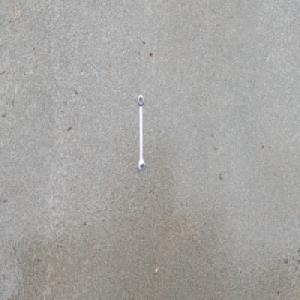Wrench: (137, 92, 145, 172)
